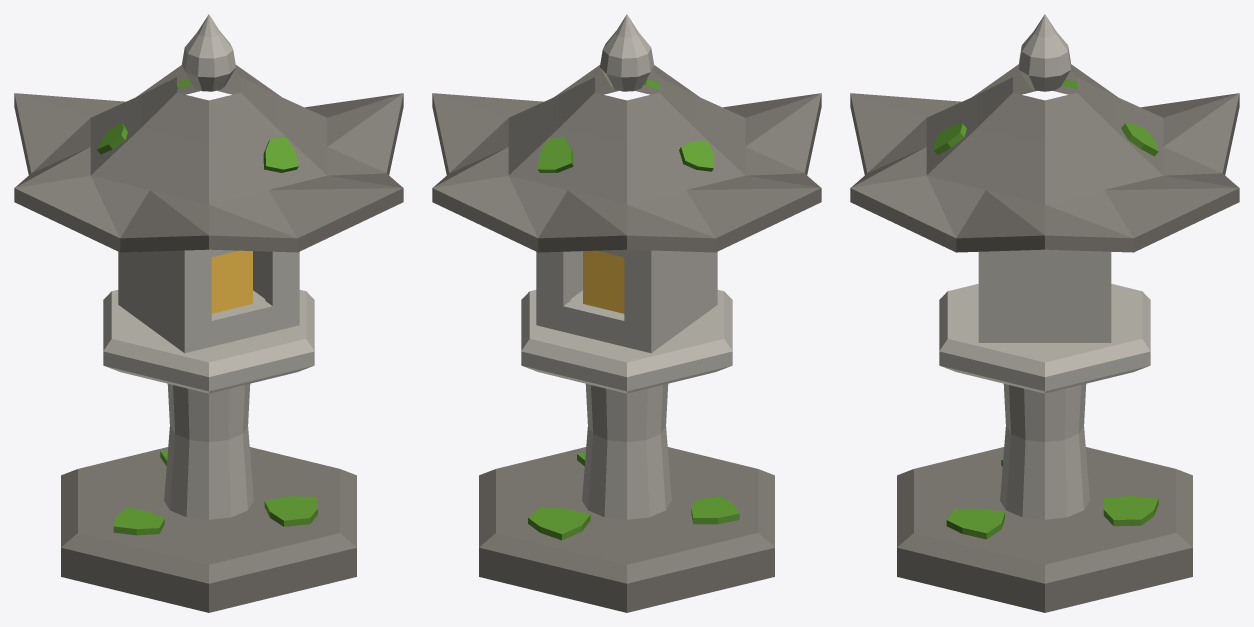
The model's file is stone-lantern.glb.
3 views of the same model, side by side, from view 1: azimuth 30°, elevation 25°; view 2: azimuth 150°, elevation 25°; view 3: azimuth 270°, elevation 25° (orthographic).
Parts seen in each view (by area): view 1: StoneDark, Stone, Moss, Glow; view 2: StoneDark, Stone, Moss, Glow; view 3: StoneDark, Stone, Moss.
Boxes of the visible parts, left/top/right/bottom form: StoneDark: left=14, top=65, right=403, bottom=612; Stone: left=103, top=14, right=314, bottom=519; Moss: left=96, top=78, right=317, bottom=535; Glow: left=211, top=250, right=252, bottom=313; StoneDark: left=432, top=65, right=821, bottom=612; Stone: left=521, top=14, right=732, bottom=519; Moss: left=528, top=78, right=739, bottom=540; Glow: left=583, top=250, right=624, bottom=313; StoneDark: left=850, top=64, right=1239, bottom=612; Stone: left=939, top=14, right=1150, bottom=519; Moss: left=933, top=79, right=1158, bottom=539.
Bounding box in the file's own units: 4.6 × 5.95 × 3.98.
